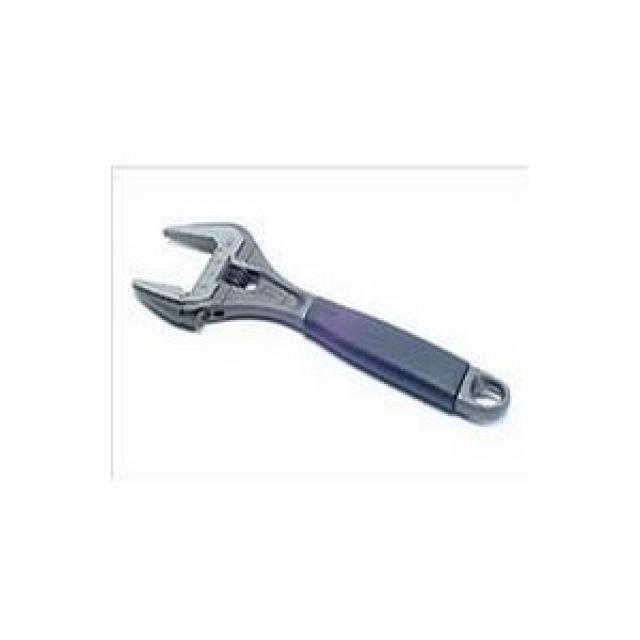wrench: (123, 200, 512, 458)
